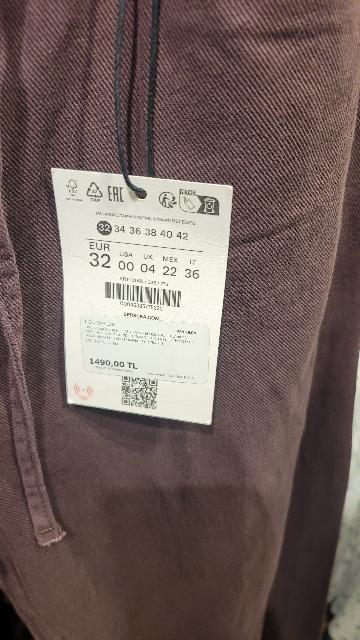Kagit: (44, 157, 248, 452)
